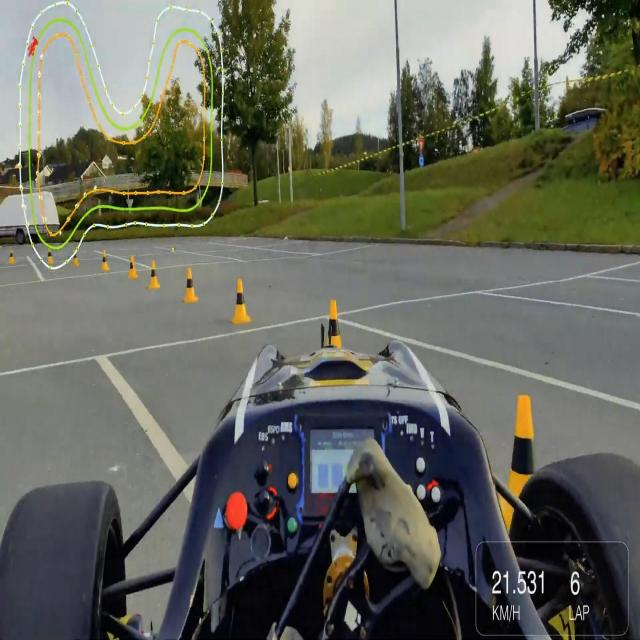yellow_cone: (500, 390, 536, 482), (325, 297, 345, 348), (232, 277, 250, 326), (183, 265, 199, 305), (148, 258, 160, 290), (128, 253, 138, 281), (101, 250, 109, 272), (8, 245, 16, 266), (72, 244, 78, 269), (46, 245, 52, 269)
